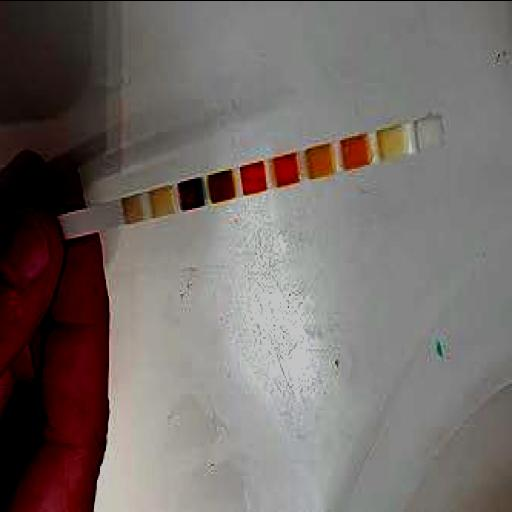Bilirubin: (153, 192, 171, 214)
Blood: (242, 168, 264, 190)
Glucose: (126, 198, 142, 220)
Ketone: (182, 184, 202, 206)
Leukocytes: (418, 120, 442, 144)
Nitrite: (380, 132, 404, 154)
Protein: (310, 150, 332, 174)
SpGravity: (211, 174, 231, 197)
Urobilinogen: (344, 142, 368, 164)
pH: (277, 160, 297, 181)
strip: (61, 115, 444, 240)
